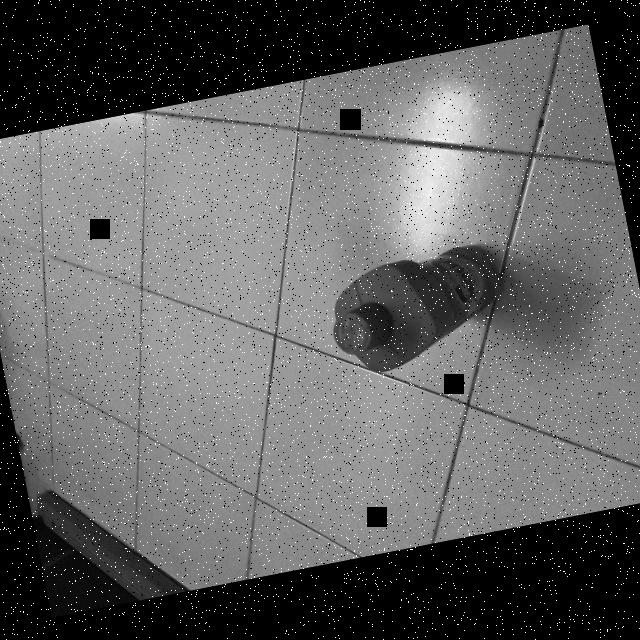chemical_plastic_bottle: (315, 228, 521, 382)
